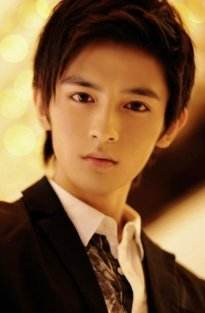person: (11, 6, 173, 308)
